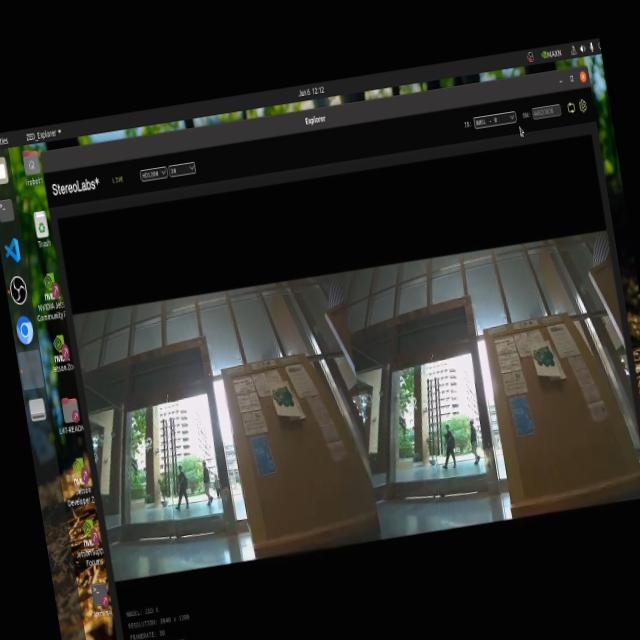green: (270, 374, 298, 416), (526, 336, 552, 374)
